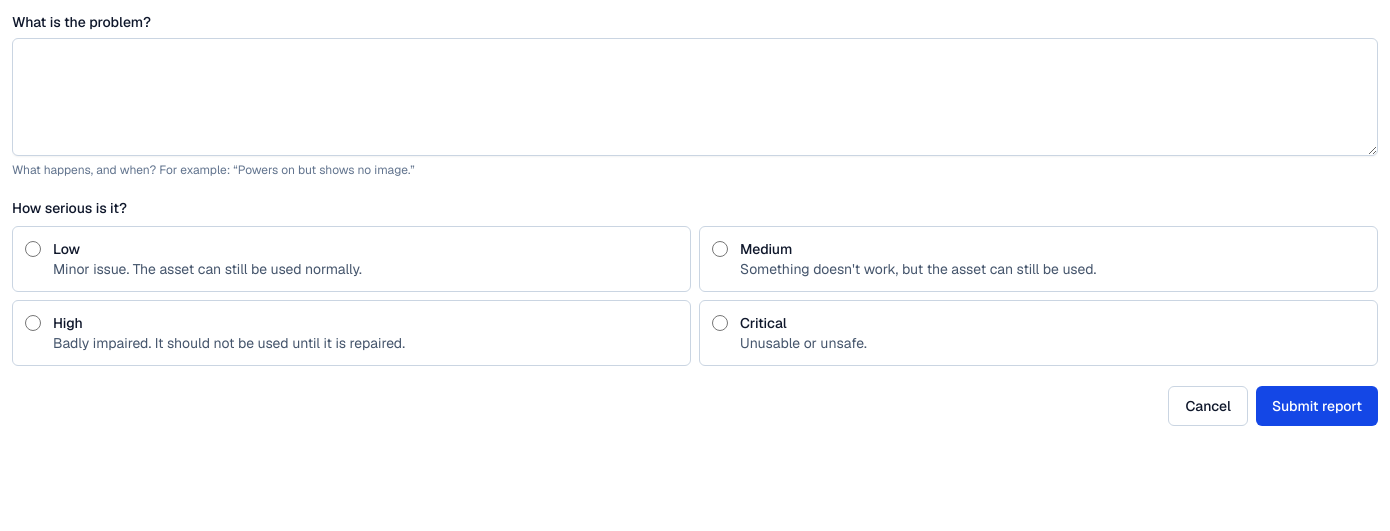
Test: ReportProblemForm › warns_that_serious_problems_take_an_available_asset_out_of_service
Click the radio button labelled "Low Minor issue. The asset can still be used normally.": [33, 249] box x1=25 y1=241 x2=41 y2=257
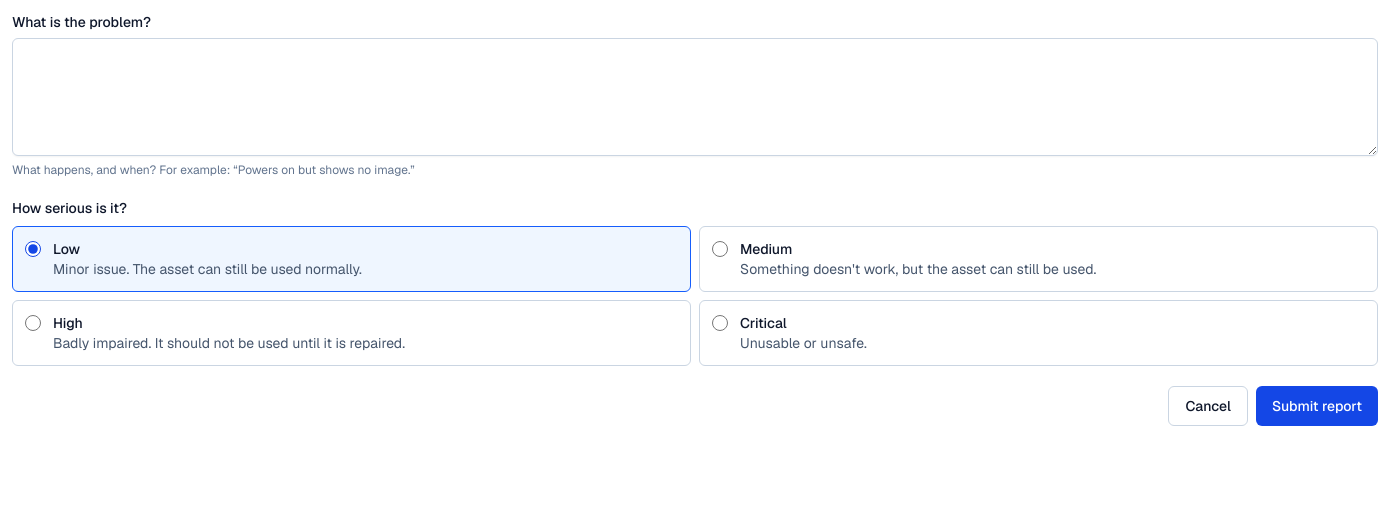
expect the text "marked" is not shown: met
Click the radio button labelled "Critical Unusable or unsafe.": [720, 323] box x1=712 y1=315 x2=728 y2=331
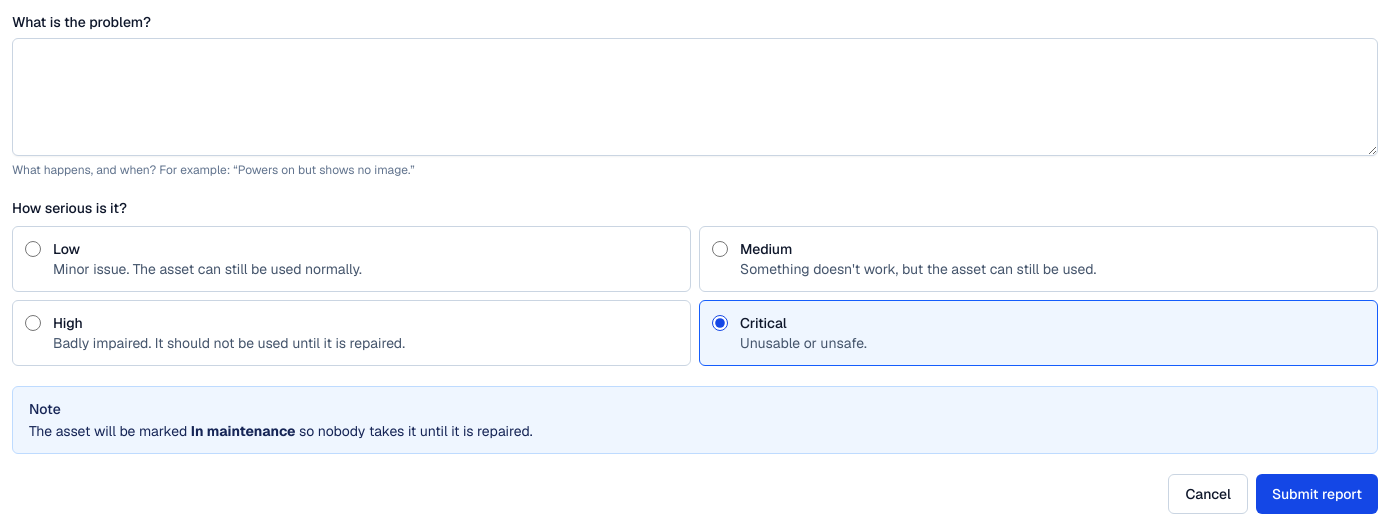
expect the text "nobody takes it" is shown: met, box x1=296 y1=422 x2=533 y2=440
